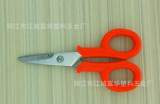scissor: (15, 23, 144, 92)
